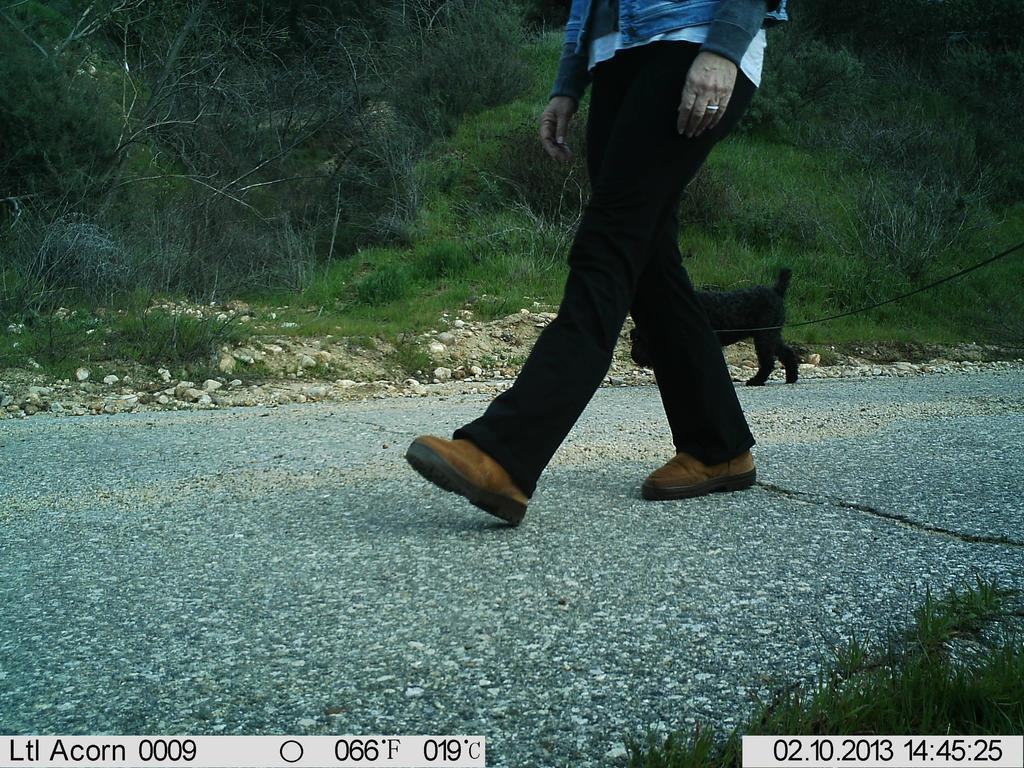dog: (624, 254, 812, 392)
